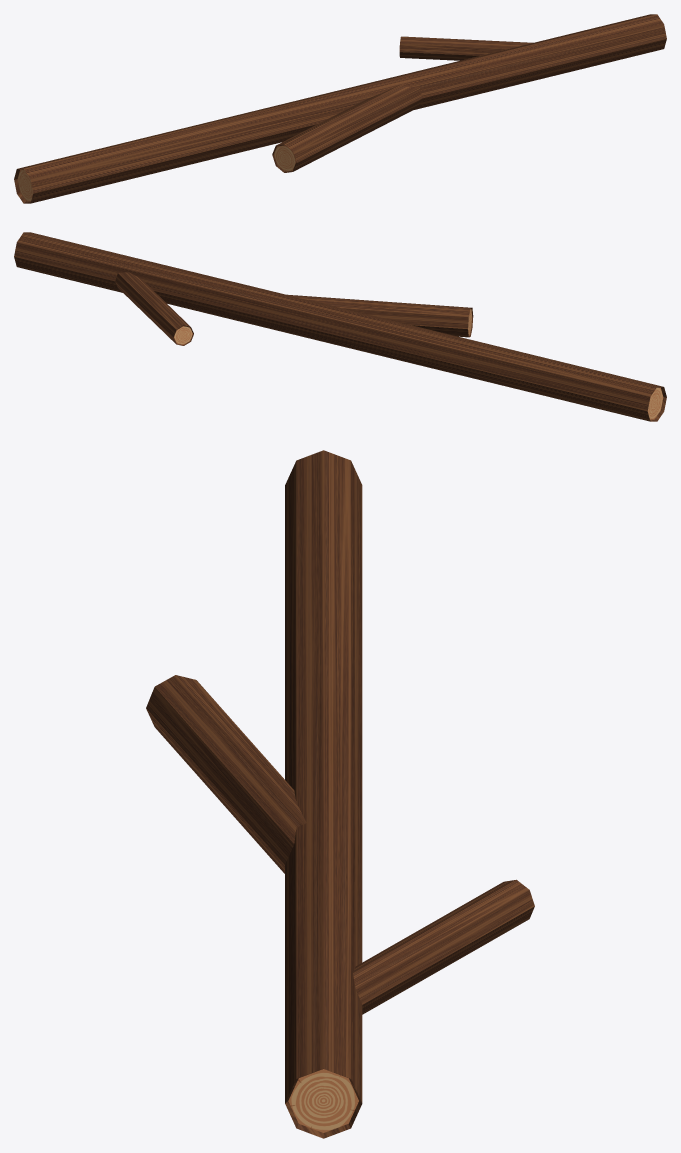
File: Stick 3.fbx
3 views of the same model, one above another, from view 1: azimuth 30°, elevation 25°; view 2: azimuth 150°, elevation 25°; view 3: azimuth 270°, elevation 25° (orthographic). The views are drawn at different scales.
Parts seen in each view (by area): view 1: Stick1; view 2: Stick1; view 3: Stick1.
Part boxes in pixels (<box>): Stick1: <box>14,14,666,203</box>; Stick1: <box>14,232,666,421</box>; Stick1: <box>146,450,534,1138</box>.
Bounding box in the file's own units: 68.75 × 3.63 × 18.28.
